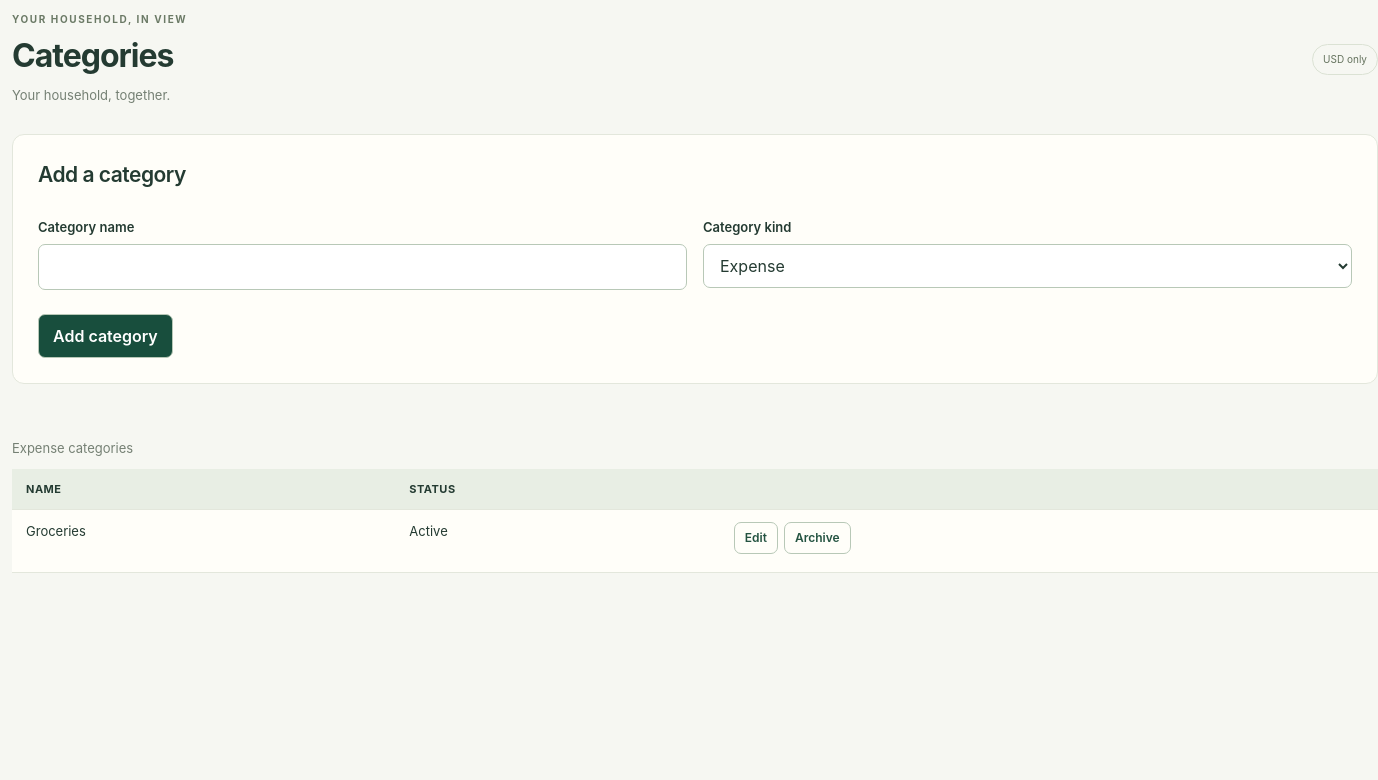
Test: CategoriesPage: create, rename, and archive categories by kind › archiving explains the effect and sends the current revision
Click the button "Archive" at (817, 538), box [784, 522, 850, 554]
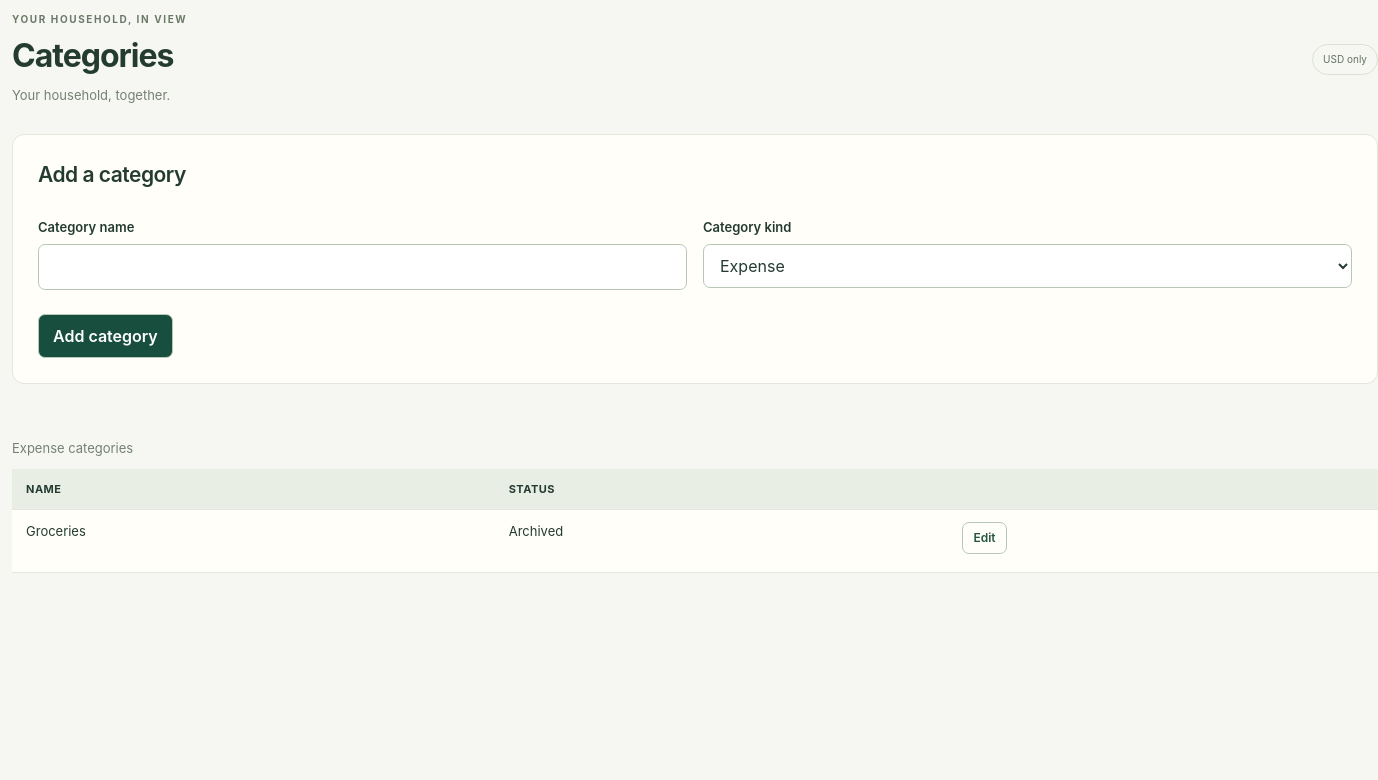
Now the text "Archived" is shown, box [495, 510, 948, 573]
